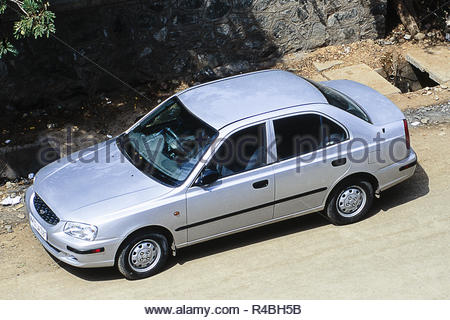car: (24, 67, 418, 273)
